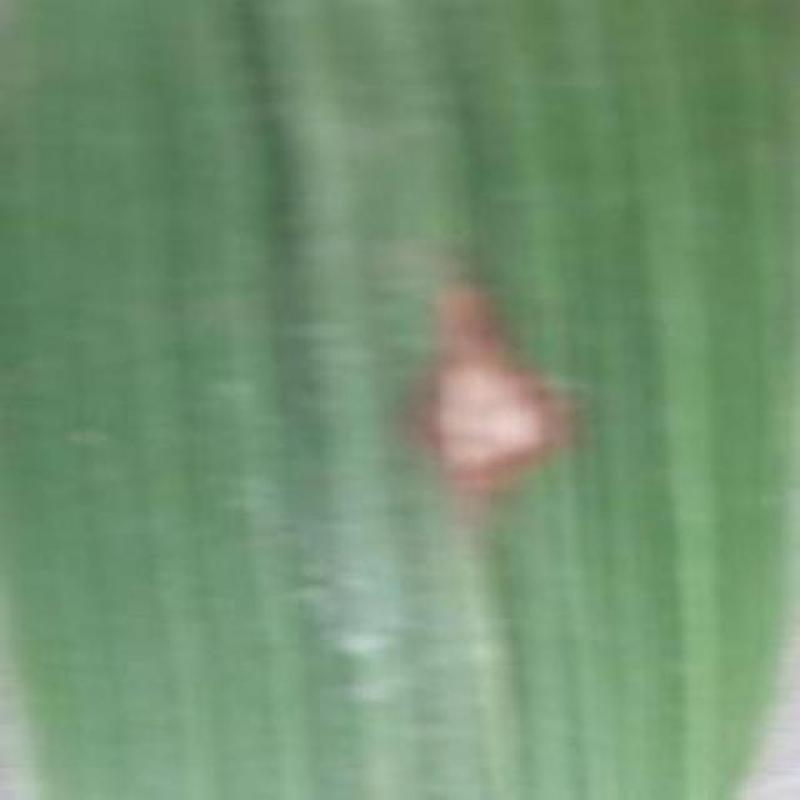Leaf_Blast: (390, 277, 590, 525)
